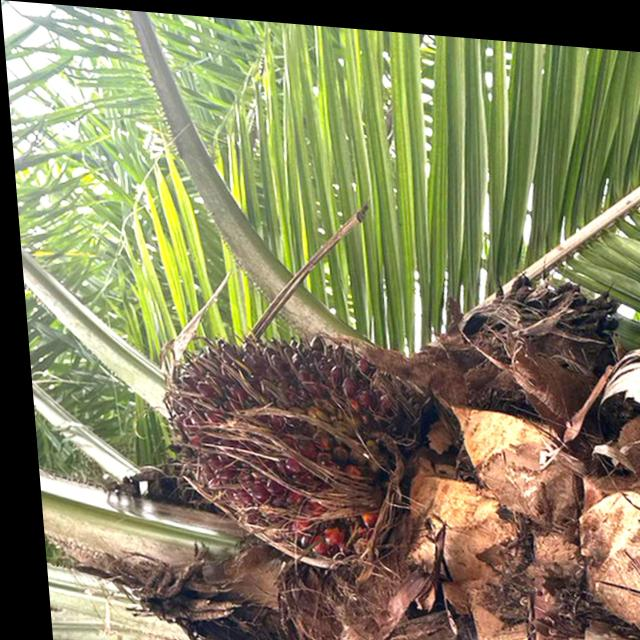ripe: (144, 316, 407, 570)
